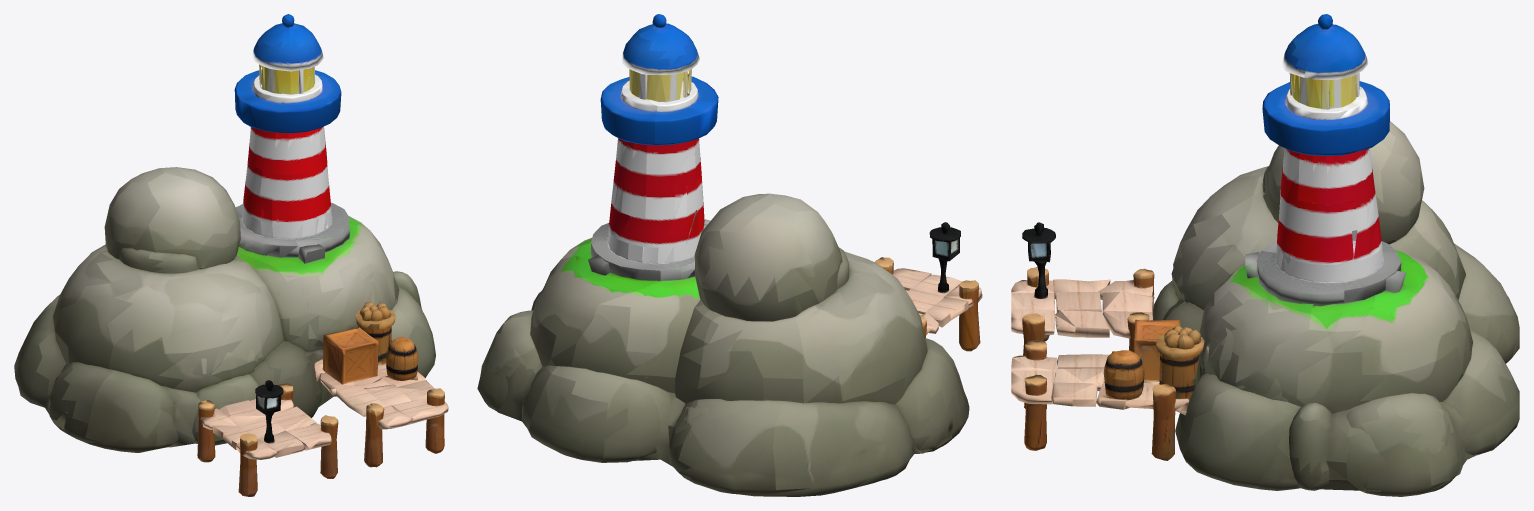
File: map_puerto.glb
The picture shows the model from 3 angles, left to right: view 1: azimuth 30°, elevation 25°; view 2: azimuth 150°, elevation 25°; view 3: azimuth 270°, elevation 25°; orthographic projection. The views are drawn at different scales.
Bounding box in the file's own units: 1 × 0.9082 × 1.
Materials: 1 (1 with a texture image).
